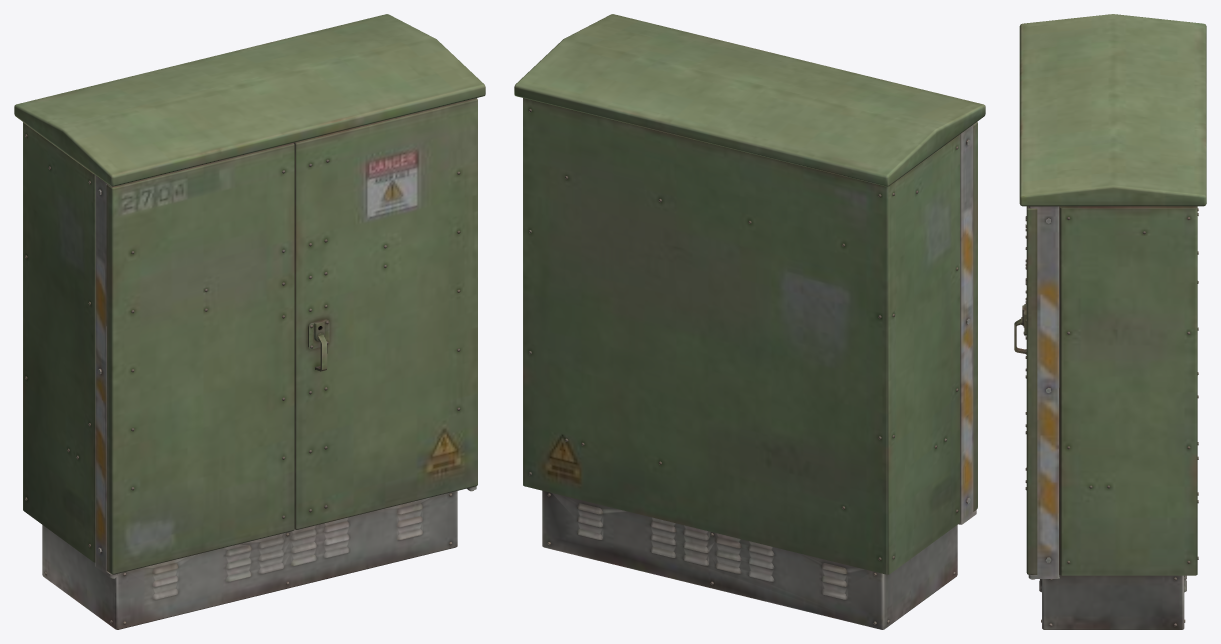
File: utility_box_wide.glb
3 renders of one model, left to right at view 1: azimuth 30°, elevation 25°; view 2: azimuth 150°, elevation 25°; view 3: azimuth 270°, elevation 25°, orthographic. The views are drawn at different scales.
Visible parts, largest first — view 1: utility_box_wide; view 2: utility_box_wide; view 3: utility_box_wide.
Part boxes in pixels (<box>): utility_box_wide: <box>14,14,485,629</box>; utility_box_wide: <box>514,14,985,629</box>; utility_box_wide: <box>1014,14,1206,629</box>.
Bounding box in the file's own units: 0.92 × 1.12 × 0.432.
1 material, 1 textured.
